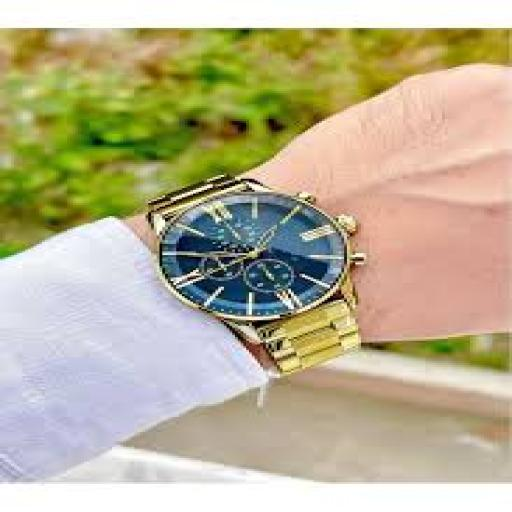KolSaati: (126, 171, 401, 386)
